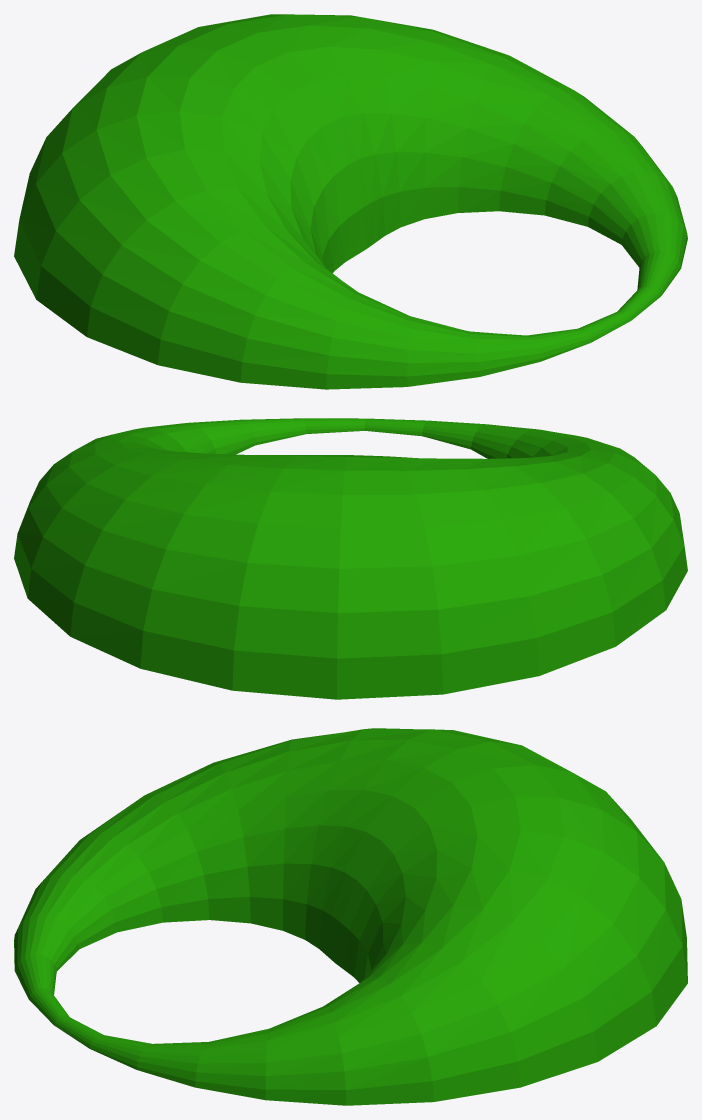
File: Vegetation_Verdant_Grass_Topiary_Ring_Mound_01.FBX
The picture shows the model from 3 angles, top to bottom: view 1: azimuth 30°, elevation 25°; view 2: azimuth 150°, elevation 25°; view 3: azimuth 270°, elevation 25°; orthographic projection. The views are drawn at different scales.
Parts seen in each view (by area): view 1: Vegetation_Verdant_Grass_Topiary_Ring_Mound_01; view 2: Vegetation_Verdant_Grass_Topiary_Ring_Mound_01; view 3: Vegetation_Verdant_Grass_Topiary_Ring_Mound_01.
Part boxes in pixels (<box>): Vegetation_Verdant_Grass_Topiary_Ring_Mound_01: <box>14,14,687,389</box>; Vegetation_Verdant_Grass_Topiary_Ring_Mound_01: <box>14,418,687,699</box>; Vegetation_Verdant_Grass_Topiary_Ring_Mound_01: <box>14,728,687,1105</box>.
Bounding box in the file's own units: 8829 × 2270 × 8673.
